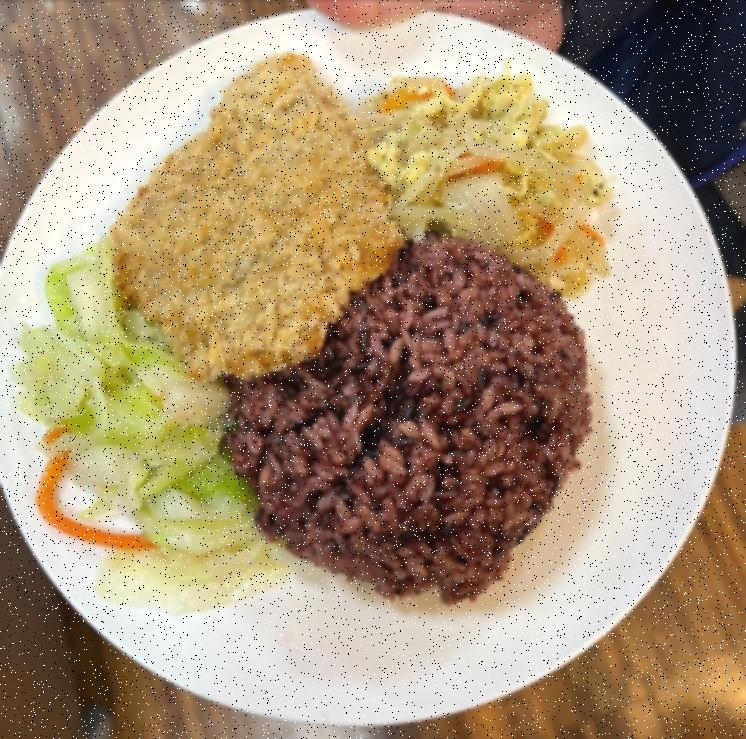fried pork chops: (102, 46, 402, 374)
plate: (0, 5, 736, 739)
purple rice: (223, 245, 596, 593)
side dish: (12, 247, 278, 614), (366, 62, 617, 296)
